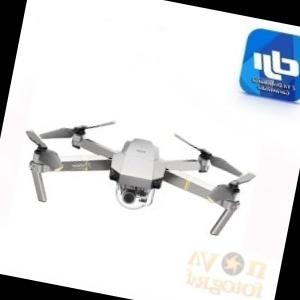drone: (0, 87, 272, 253)
